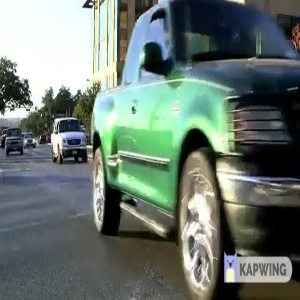suv: (47, 112, 88, 169)
truck: (91, 1, 300, 294), (3, 123, 25, 159)
